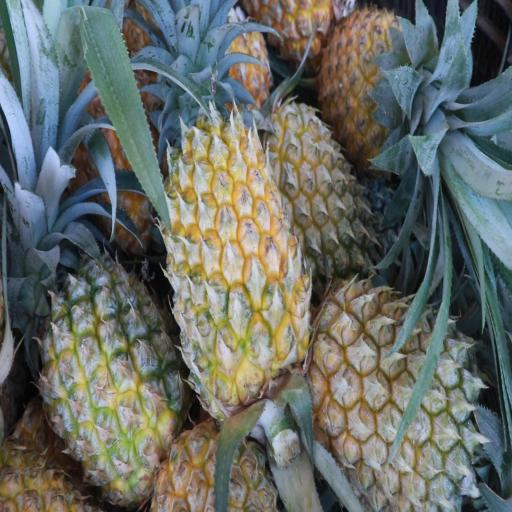Pineapple - v8 v1: (160, 113, 310, 409), (40, 269, 180, 497), (326, 8, 426, 156)
